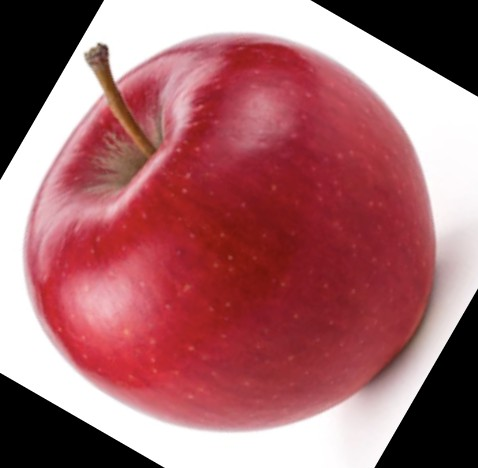fresh_apple: (27, 33, 439, 426)
